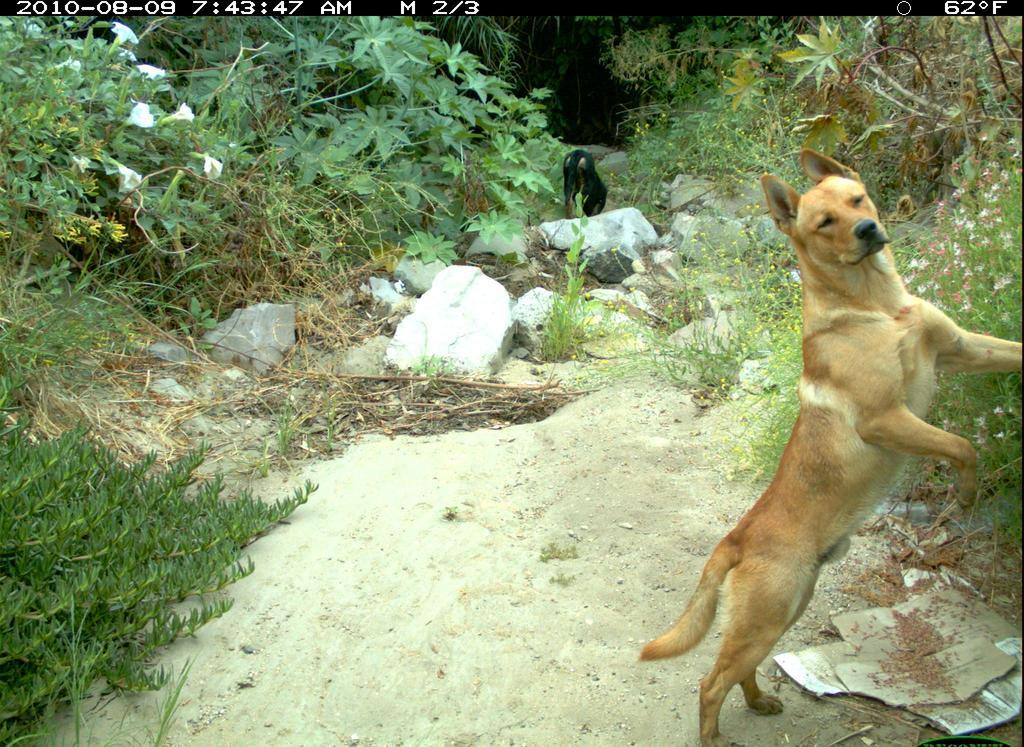dog: (639, 146, 1017, 747), (555, 142, 615, 227)
